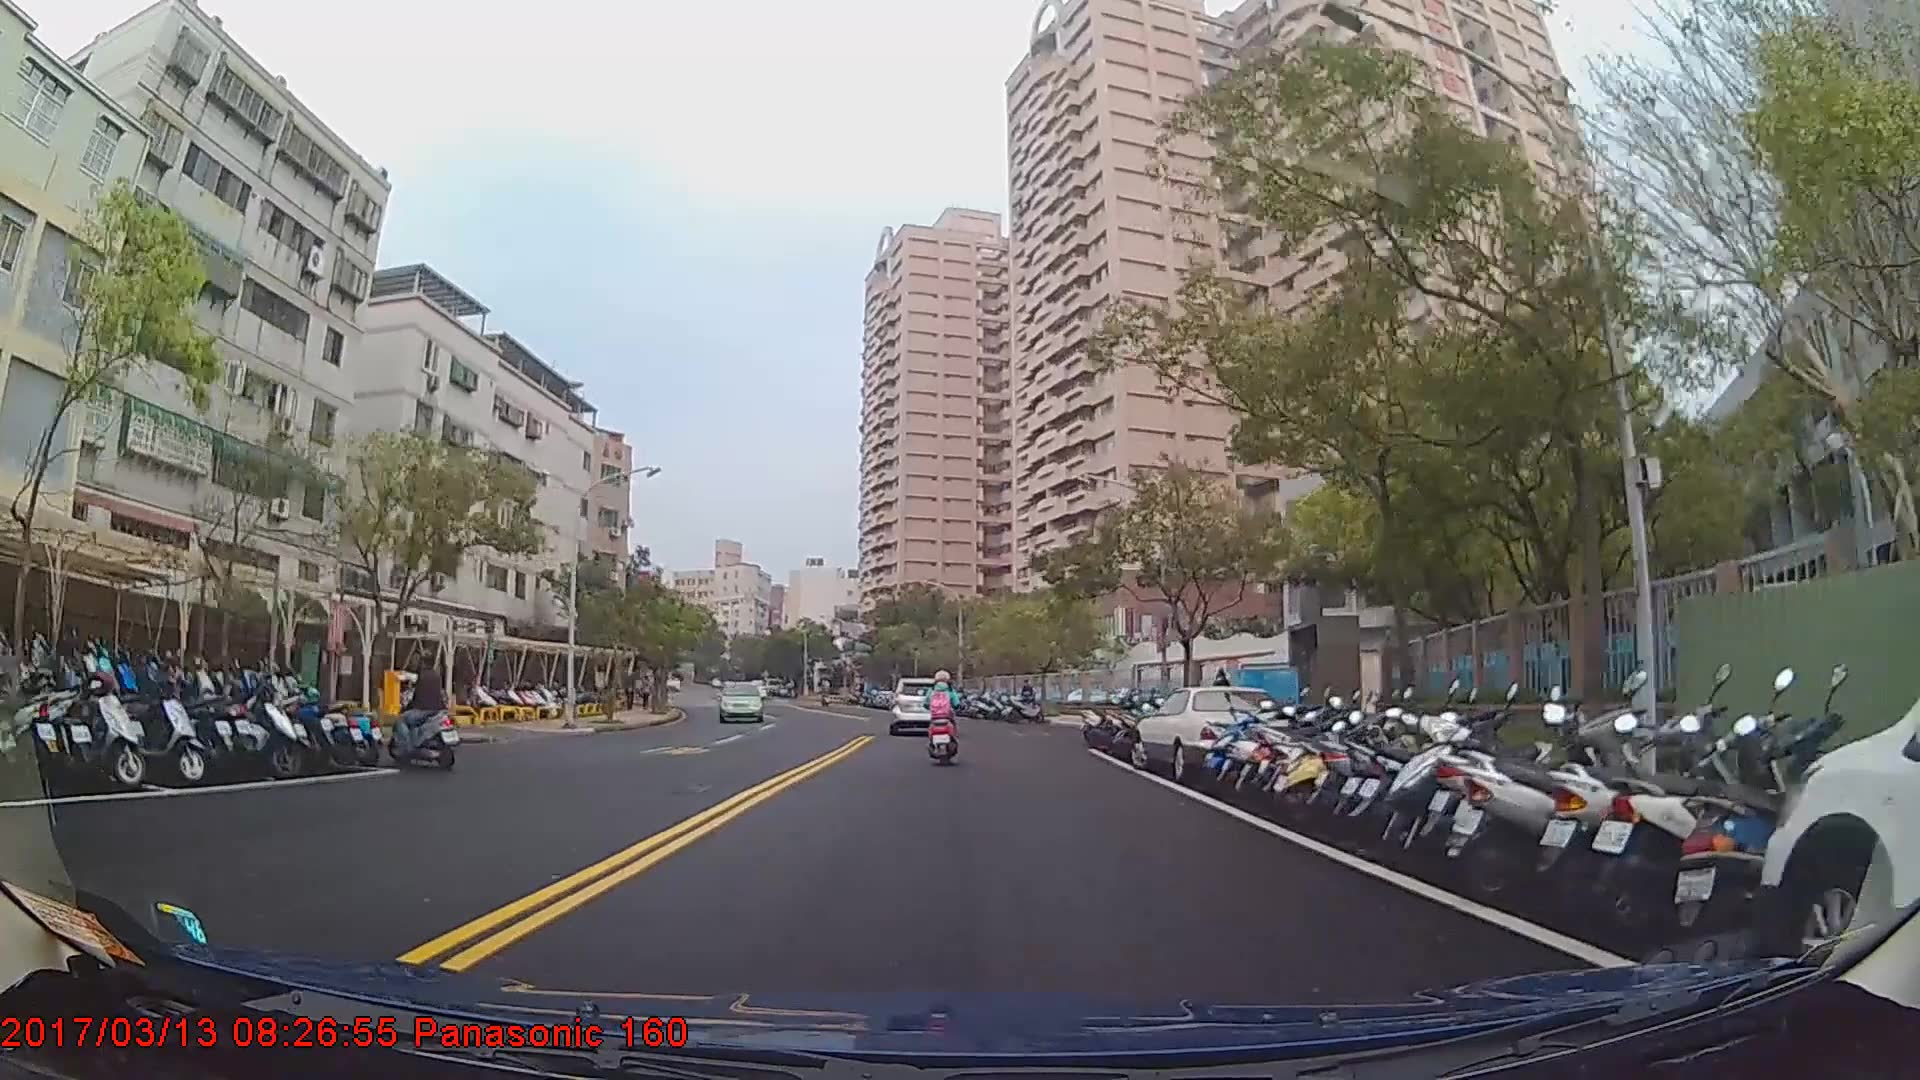pedestrian: (1213, 667, 1236, 725)
rider: (389, 648, 451, 765), (923, 667, 964, 768)
vehicle: (1756, 552, 1920, 1001), (1130, 684, 1290, 782), (885, 674, 950, 732), (716, 679, 766, 724)
